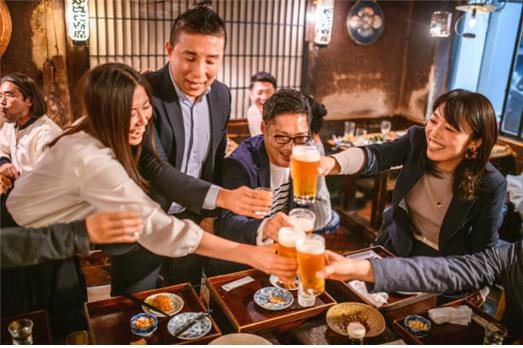alcohol: (296, 233, 326, 296), (291, 146, 320, 204), (277, 228, 300, 290), (289, 208, 316, 239), (254, 188, 273, 215), (299, 285, 315, 308), (344, 122, 355, 143), (381, 121, 391, 144)
